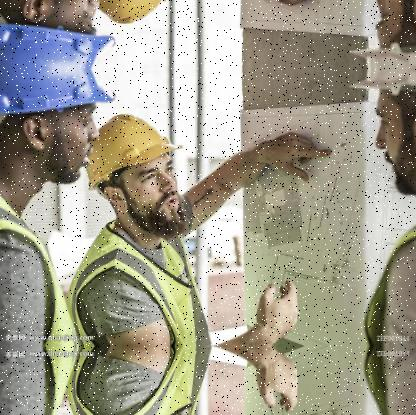helmet: (0, 69, 125, 200), (82, 102, 189, 236), (345, 69, 414, 205), (0, 0, 125, 68), (344, 0, 414, 68), (81, 0, 189, 35)
